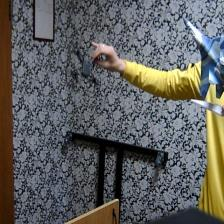drone: (62, 36, 106, 94)
